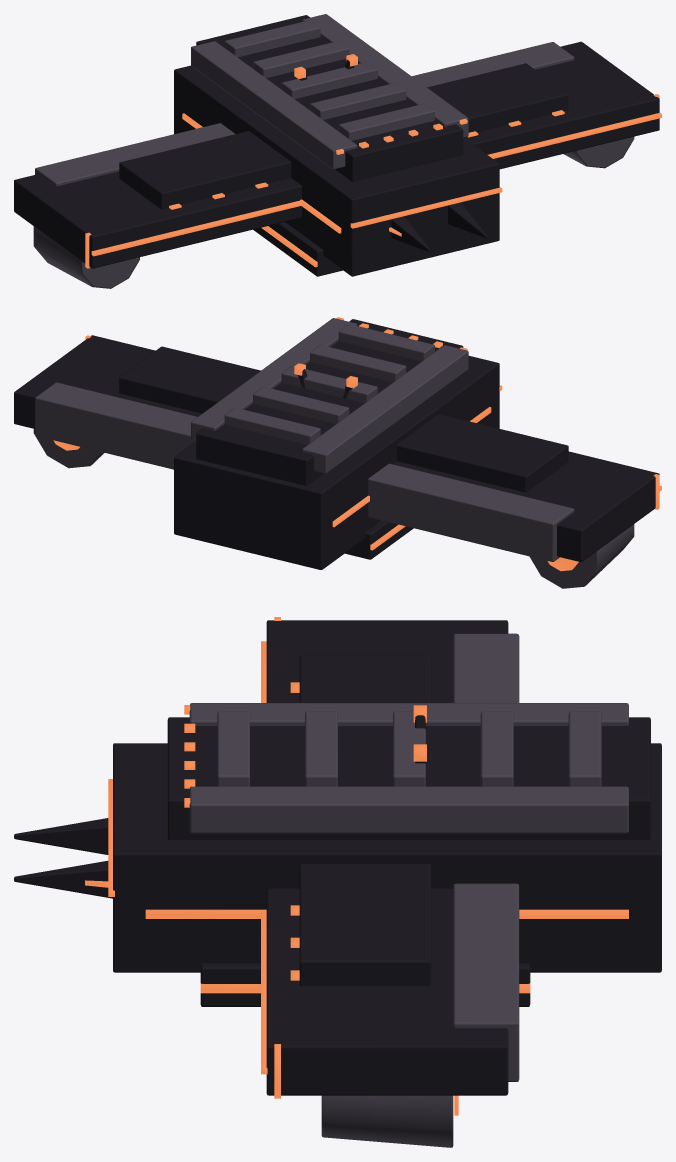
The model's file is helios.glb.
The picture shows the model from 3 angles, top to bottom: view 1: azimuth 30°, elevation 25°; view 2: azimuth 150°, elevation 25°; view 3: azimuth 270°, elevation 25°; orthographic projection. The views are drawn at different scales.
Visible parts, largest first — view 1: torso_dark, wingL_dark, torso_mid, wingR_dark, wingL_mid, wingR_mid, torso_glow, wingL_glow, wingR_glow, noseR_dark, noseL_dark; view 2: torso_dark, torso_mid, wingL_dark, wingL_mid, wingR_dark, wingR_mid, torso_glow, wingL_glow; view 3: torso_dark, wingR_dark, torso_mid, wingR_mid, wingL_dark, wingL_mid, torso_glow, noseL_dark, noseR_dark, wingR_glow.
Part boxes in pixels (x1,y1,x2,y2): torso_dark: (174,15,499,276); wingL_dark: (14,131,301,268); torso_mid: (191,14,468,169); wingR_dark: (427,41,659,169); wingL_mid: (33,123,235,288); wingR_mid: (412,42,634,168); torso_glow: (182,113,502,267); wingL_glow: (85,182,301,268); wingR_glow: (468,94,661,158); noseR_dark: (448,202,487,238); noseL_dark: (391,216,430,251); torso_dark: (174,319,499,569); torso_mid: (191,318,468,473); wingL_dark: (393,414,659,562); wingL_mid: (368,463,634,588); wingR_dark: (14,335,260,428); wingR_mid: (33,382,197,469); torso_glow: (332,317,502,550); wingL_glow: (547,474,661,571); torso_dark: (113,717,661,1006); wingR_dark: (266,864,508,1095); torso_mid: (189,703,628,833); wingR_mid: (321,883,519,1147); wingL_dark: (266,620,508,702); wingL_mid: (453,633,519,702); torso_glow: (108,705,628,993); noseL_dark: (14,818,108,854); noseR_dark: (14,860,112,898); wingR_glow: (261,905,458,1115).
Bounding box in the file's own units: 92.6 × 23.34 × 59.
